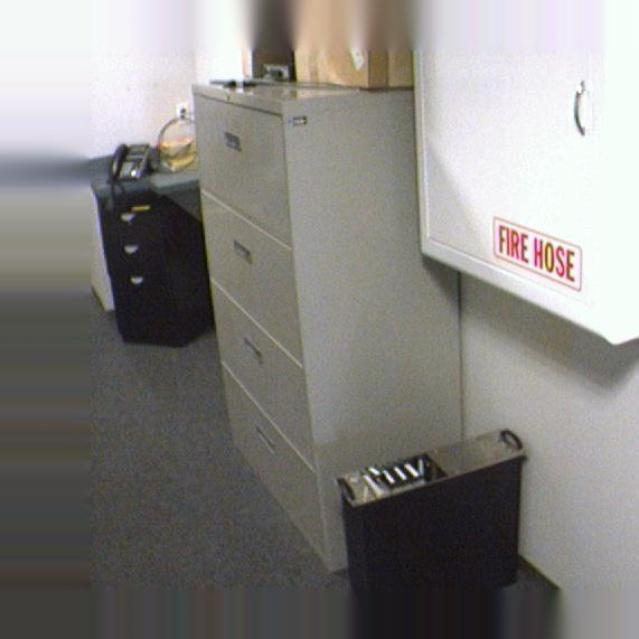Filing Cabinet: (190, 83, 463, 575)
